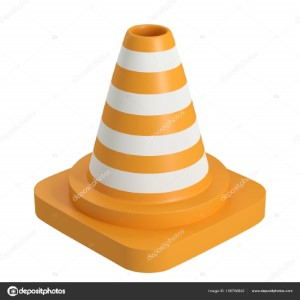traffic cone: (33, 23, 267, 273)
